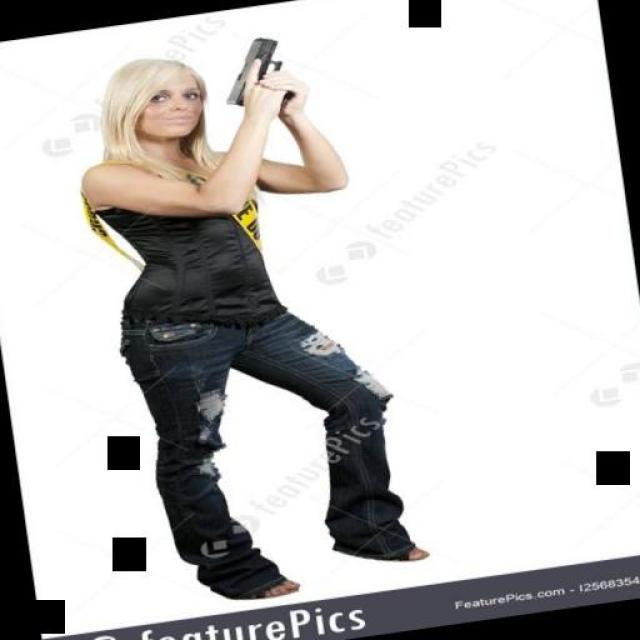gun: (215, 32, 290, 114)
